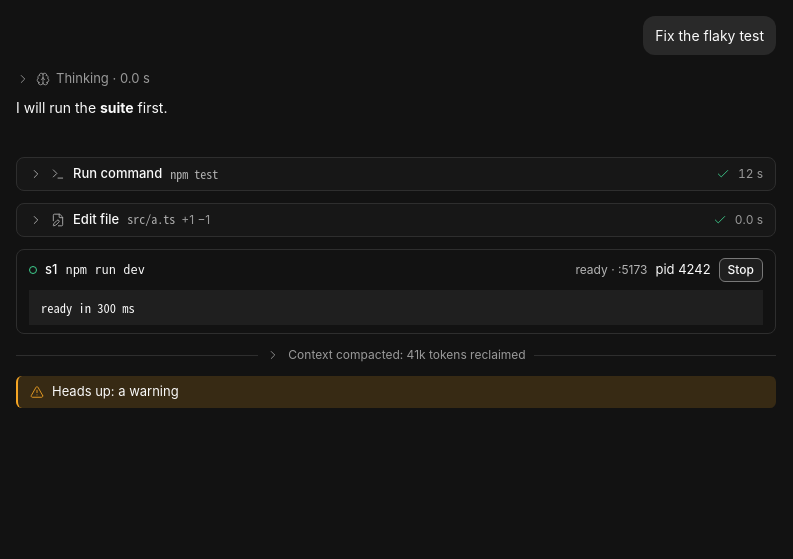
Scenario: Transcript entry kinds › expands the compaction divider to its details
The image size is (793, 559).
Click the button "Context compacted: 41k tokens reclaimed" at (396, 355), box [16, 346, 776, 364]
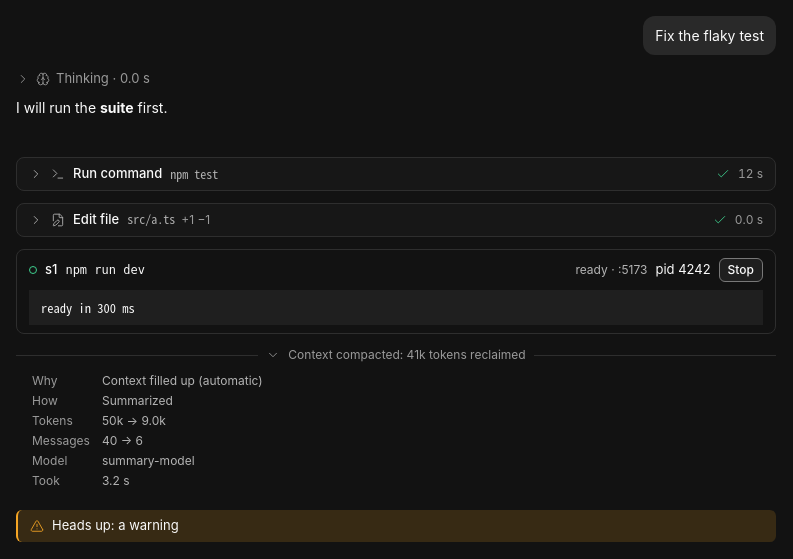
Result: the text "summary-model" is shown at [102, 453, 195, 468]
